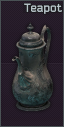Antique teapot: (0, 0, 64, 127)
